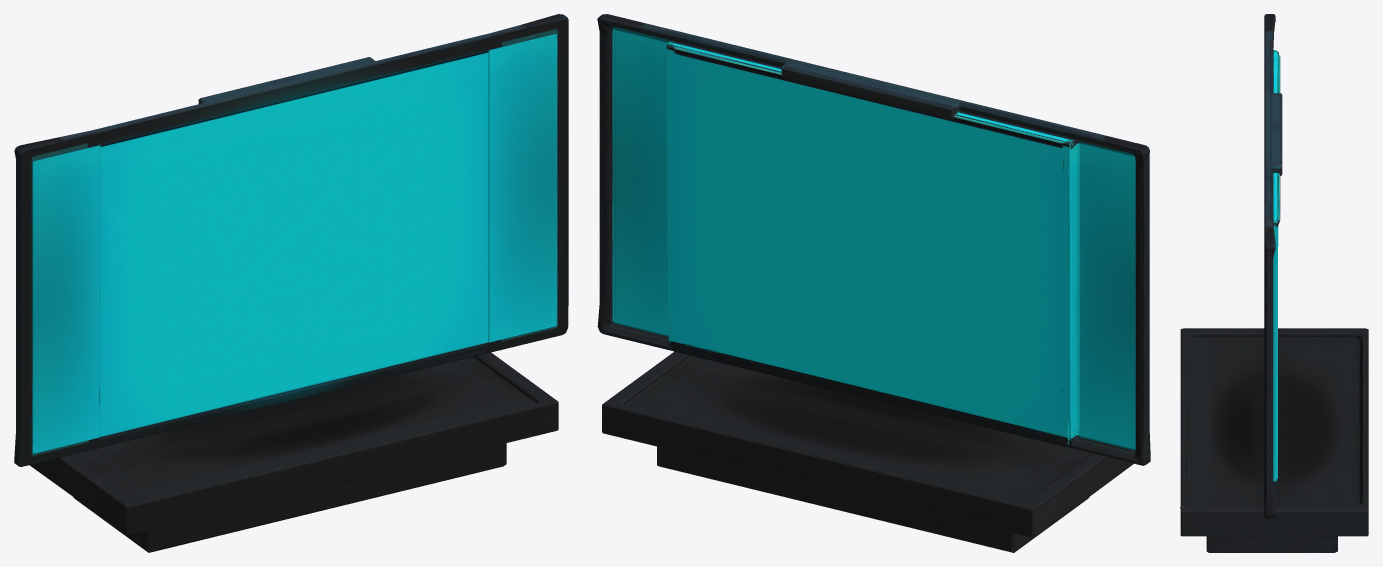
The model's file is neon-hologram.glb.
3 views of the same model, side by side, from view 1: azimuth 30°, elevation 25°; view 2: azimuth 150°, elevation 25°; view 3: azimuth 270°, elevation 25° (orthographic). The views are drawn at different scales.
Size of the model in its own units: 1.43 by 1 by 0.4912.
1 material, 1 textured.
